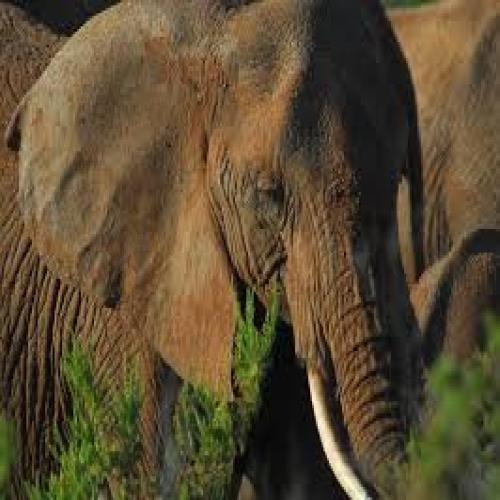asian_elephant-endangered: (25, 16, 489, 500)
